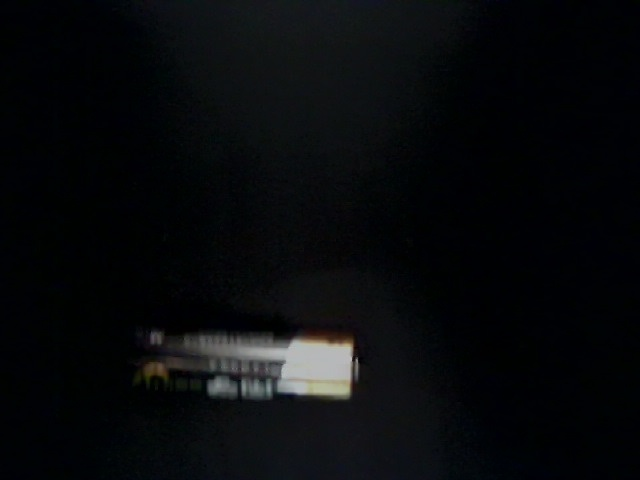QTLJ: (302, 279, 521, 458)
